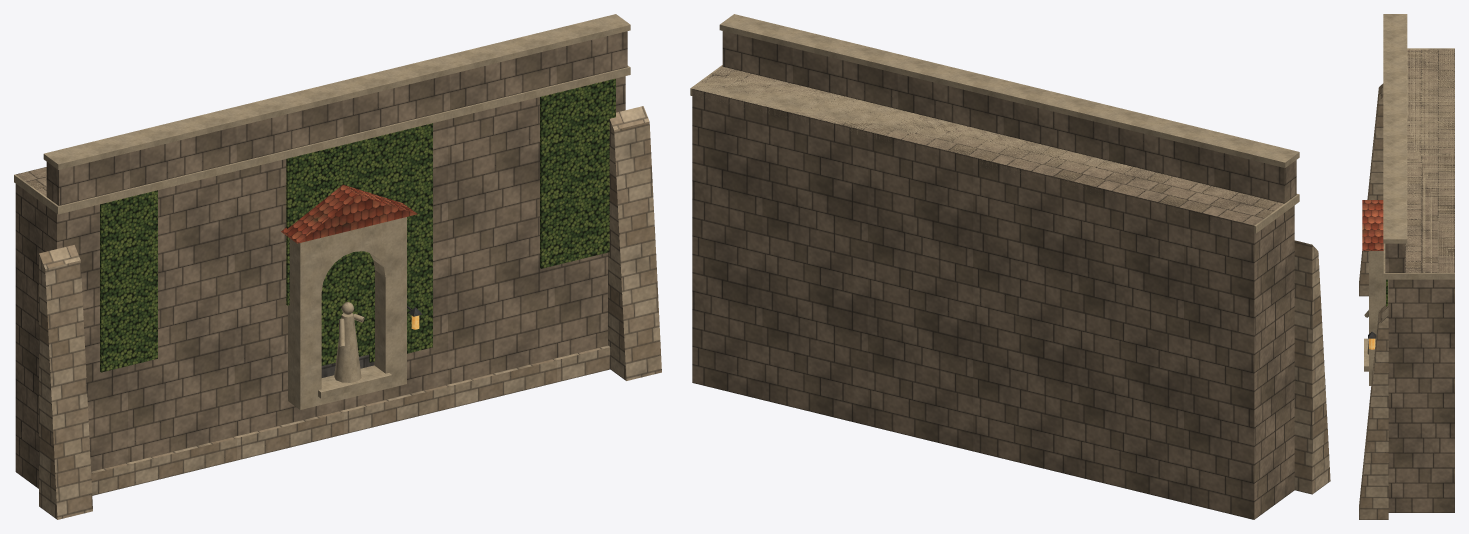
Rendered from retaining_wall_niche.gltf.
3 views of the same model, side by side, from view 1: azimuth 30°, elevation 25°; view 2: azimuth 150°, elevation 25°; view 3: azimuth 270°, elevation 25° (orthographic). The views are drawn at different scales.
Parts seen in each view (by area): view 1: retaining_wall_niche_mesh; view 2: retaining_wall_niche_mesh; view 3: retaining_wall_niche_mesh.
Part boxes in pixels (left/top/right/bottom): retaining_wall_niche_mesh: left=14, top=14, right=661, bottom=519; retaining_wall_niche_mesh: left=690, top=14, right=1330, bottom=519; retaining_wall_niche_mesh: left=1359, top=14, right=1454, bottom=519.
Size of what is drawn, in the model's own units: 17 by 9.15 by 2.9.
9 materials, 9 textured.
